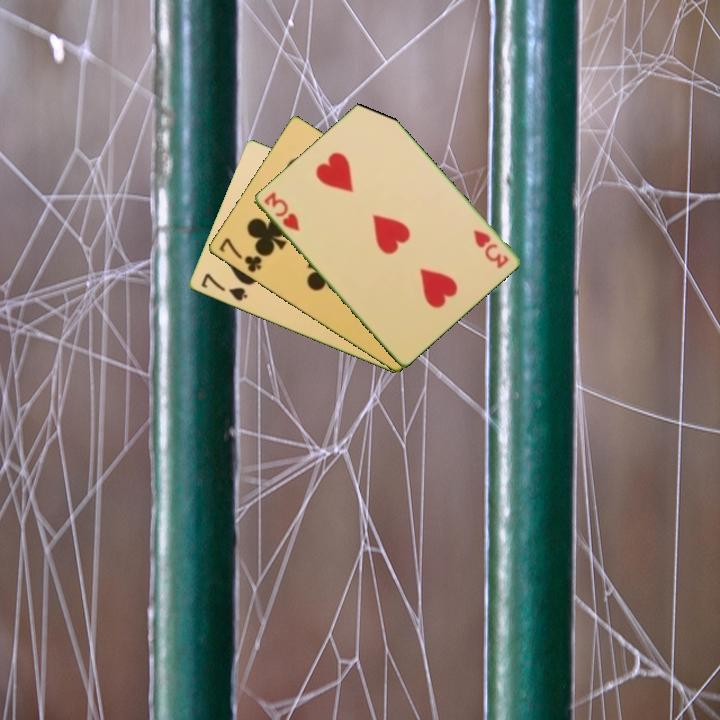3h: (260, 188, 302, 234), (469, 226, 511, 271)
7c: (215, 234, 264, 276)
7s: (197, 270, 250, 304)
